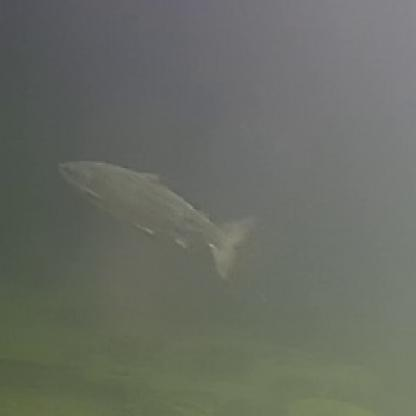salmon: (52, 153, 257, 278)
